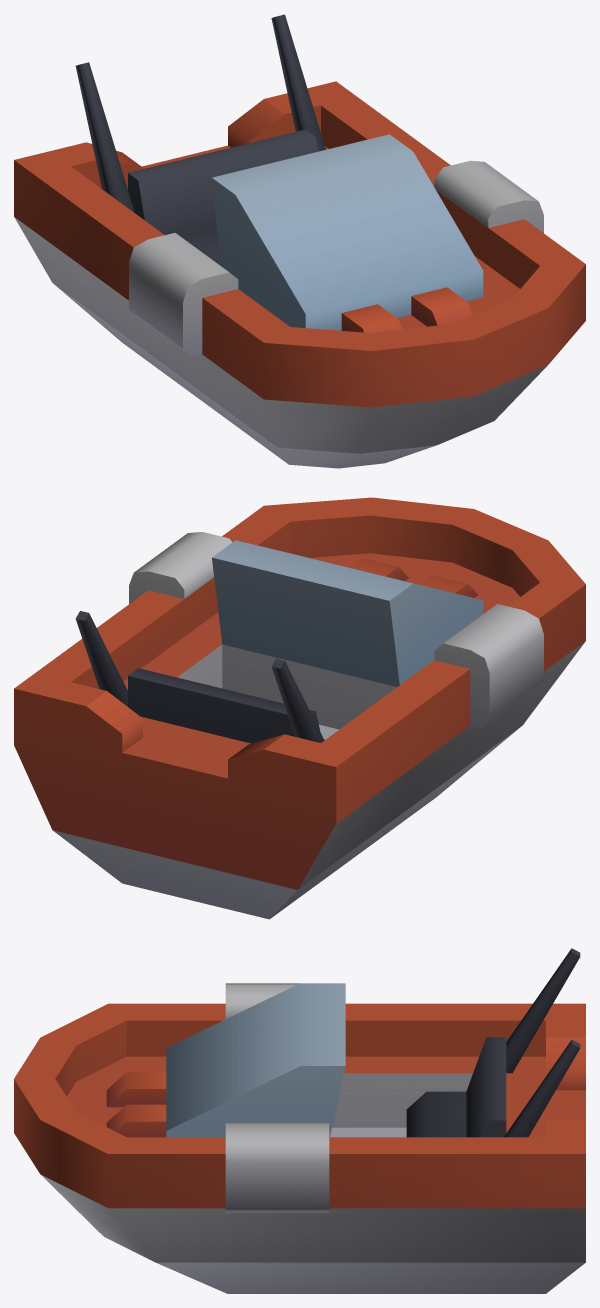
Rendered from boat_speed_e.glb.
3 renders of one model, top to bottom at view 1: azimuth 30°, elevation 25°; view 2: azimuth 150°, elevation 25°; view 3: azimuth 270°, elevation 25°, orthographic. The views are drawn at different scales.
Visible parts, largest first — view 1: boat-speed-e; view 2: boat-speed-e; view 3: boat-speed-e.
Part boxes in pixels (x1,y1,x2,y2): boat-speed-e: (14, 14, 585, 468); boat-speed-e: (14, 497, 585, 919); boat-speed-e: (14, 948, 585, 1293).
Size of the model in its own units: 2 by 1.46 by 2.87.
Materials: 1 (1 with a texture image).
